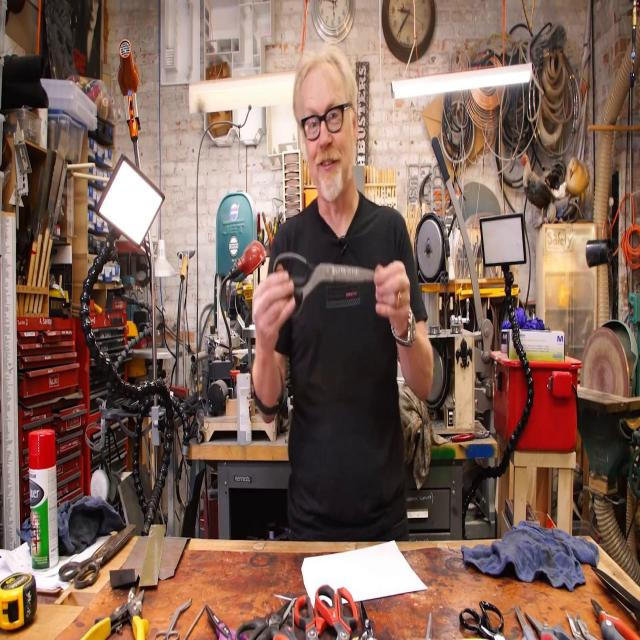scissor: (58, 524, 136, 589), (274, 254, 375, 302), (84, 590, 144, 640), (236, 597, 294, 640), (591, 598, 639, 640), (157, 599, 192, 640), (526, 612, 574, 640)
